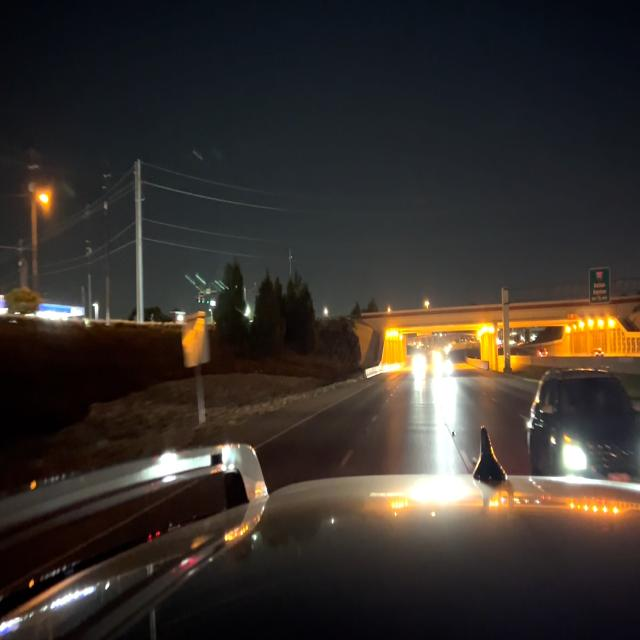back-of-sign: (182, 308, 210, 365)
